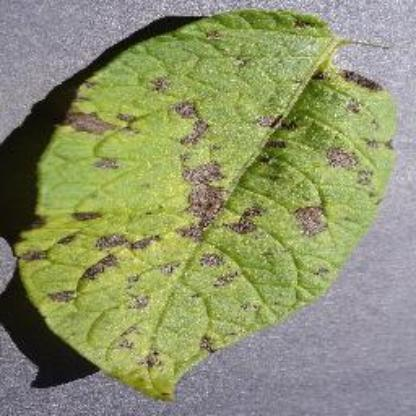Early-Blight: (12, 6, 394, 400)
